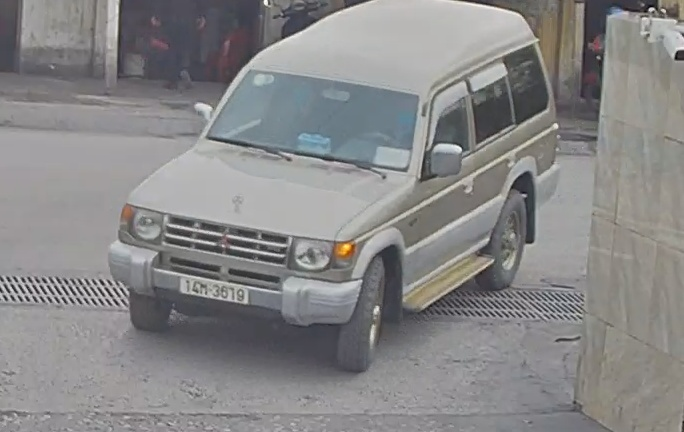vehicle plate: (176, 274, 250, 309)
